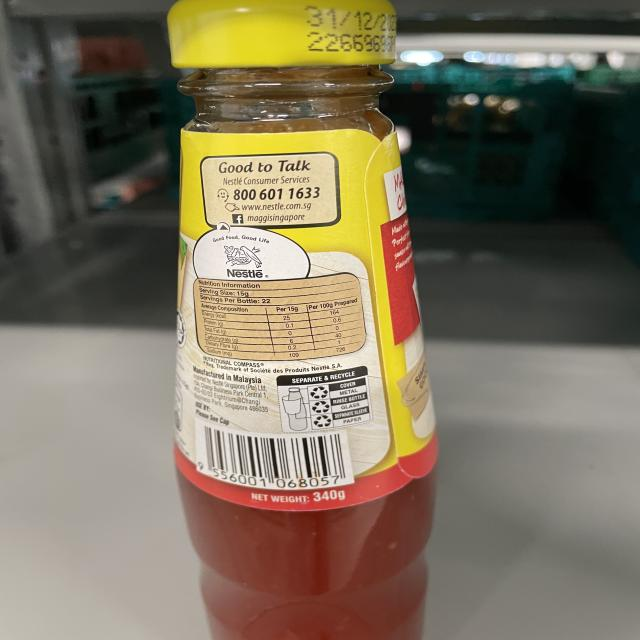object_name: (176, 5, 425, 640)
